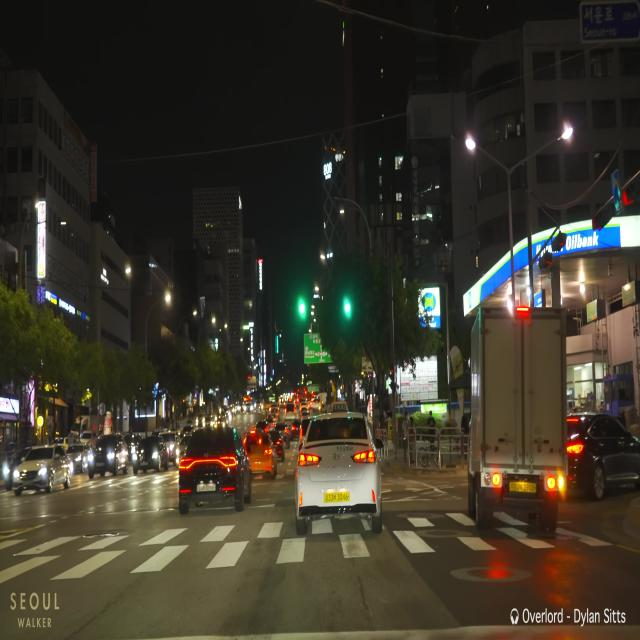Green Light: (344, 302, 352, 315), (299, 302, 306, 316)
